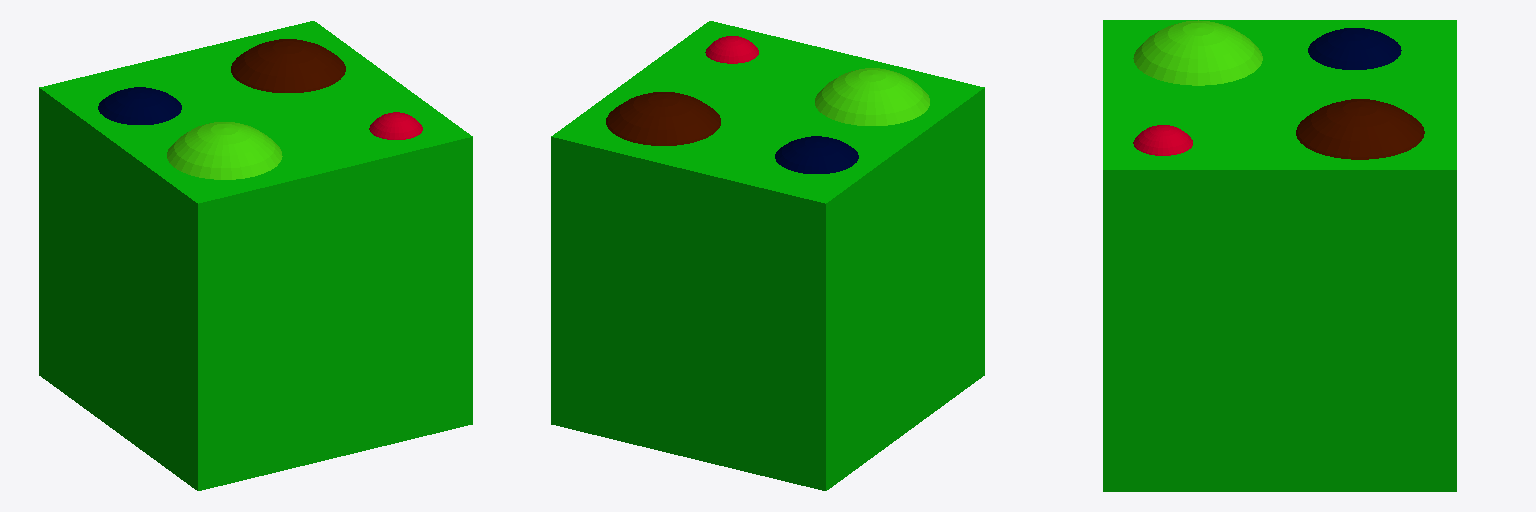
URDF robot description (robot):

<robot name="robot">
  <link name="base_footprint"></link>
  <joint name="base_joint" type="fixed">
    <parent link="base_footprint" />
    <child link="base_link" />
    <origin xyz="0 0 1" rpy="0 0 0" />
  </joint>
  <link name="base_link">
    <visual>
      <origin xyz="0 0 0" rpy="0 0 0" />
      <geometry>
        <box size="2 2 2" />
      </geometry>
      <material name="base_link-material">
        <color rgba="0.035601314869097636 0.7681511472425809 0.05286064701616471 1" />
      </material>
    </visual>
    <collision>
      <origin xyz="0 0 0" rpy="0 0 0" />
      <geometry>
        <box size="1 1 1" />
      </geometry>
    </collision>
    <inertial>
      <origin xyz="0 0 0" rpy="0 0 0" />
      <mass value="1" />
      <inertia ixx="0.16666666666666666" ixy="0" ixz="0" iyy="0.16666666666666666" iyz="0" izz="0.16666666666666666" />
    </inertial>
  </link>
  <joint name="base_link_to_sphere0" type="fixed">
    <parent link="base_link" />
    <child link="sphere0" />
    <origin xyz="0.4971067142143324 0.45307616003627027 0.6590122002197509" rpy="0 0 0" />
  </joint>
  <link name="sphere0">
    <visual>
      <origin xyz="0 0 0" rpy="0 0 0" />
      <geometry>
        <sphere radius="0.5" />
      </geometry>
      <material name="sphere0-material">
        <color rgba="0.3049873140591091 0.09758734713304495 0.0033465357620980074 1" />
      </material>
    </visual>
    <collision>
      <origin xyz="0 0 0" rpy="0 0 0" />
      <geometry>
        <sphere radius="0.5" />
      </geometry>
    </collision>
    <inertial>
      <origin xyz="0 0 0" rpy="0 0 0" />
      <mass value="1" />
      <inertia ixx="0.4" ixy="0" ixz="0" iyy="0.4" iyz="0" izz="0.4" />
    </inertial>
  </link>
  <joint name="base_link_to_sphere1" type="fixed">
    <parent link="base_link" />
    <child link="sphere1" />
    <origin xyz="-0.49427324944898676 -0.4612209561514433 0.7398365986043107" rpy="0 0 0" />
  </joint>
  <link name="sphere1">
    <visual>
      <origin xyz="0 0 0" rpy="0 0 0" />
      <geometry>
        <sphere radius="0.45" />
      </geometry>
      <material name="sphere1-material">
        <color rgba="0.3049873140591091 0.85499260812105 0.07618538147321911 1" />
      </material>
    </visual>
    <collision>
      <origin xyz="0 0 0" rpy="0 0 0" />
      <geometry>
        <sphere radius="0.45" />
      </geometry>
    </collision>
    <inertial>
      <origin xyz="0 0 0" rpy="0 0 0" />
      <mass value="1" />
      <inertia ixx="0.4" ixy="0" ixz="0" iyy="0.4" iyz="0" izz="0.4" />
    </inertial>
  </link>
  <joint name="base_link_to_sphere2" type="fixed">
    <parent link="base_link" />
    <child link="sphere2" />
    <origin xyz="0.6397328377515283 -0.6584441229497581 0.8953422826738506" rpy="0 0 0" />
  </joint>
  <link name="sphere2">
    <visual>
      <origin xyz="0 0 0" rpy="0 0 0" />
      <geometry>
        <sphere radius="0.2" />
      </geometry>
      <material name="sphere2-material">
        <color rgba="0.8148465722120952 0.0018211619011764706 0.181164244239483 1" />
      </material>
    </visual>
    <collision>
      <origin xyz="0 0 0" rpy="0 0 0" />
      <geometry>
        <sphere radius="0.2" />
      </geometry>
    </collision>
    <inertial>
      <origin xyz="0 0 0" rpy="0 0 0" />
      <mass value="1" />
      <inertia ixx="0.4" ixy="0" ixz="0" iyy="0.4" iyz="0" izz="0.4" />
    </inertial>
  </link>
  <joint name="base_link_to_sphere3" type="fixed">
    <parent link="base_link" />
    <child link="sphere3" />
    <origin xyz="-0.5991591010288562 0.42189710472745645 0.7020004870615688" rpy="0 0 0" />
  </joint>
  <link name="sphere3">
    <visual>
      <origin xyz="0 0 0" rpy="0 0 0" />
      <geometry>
        <sphere radius="0.4" />
      </geometry>
      <material name="sphere3-material">
        <color rgba="0.0030352698352941175 0.04970656597728775 0.23839757380151394 1" />
      </material>
    </visual>
    <collision>
      <origin xyz="0 0 0" rpy="0 0 0" />
      <geometry>
        <sphere radius="0.4" />
      </geometry>
    </collision>
    <inertial>
      <origin xyz="0 0 0" rpy="0 0 0" />
      <mass value="1" />
      <inertia ixx="0.4" ixy="0" ixz="0" iyy="0.4" iyz="0" izz="0.4" />
    </inertial>
  </link>
</robot>

--- Render facts (derived) ---
Views: 3 orthographic renders of the robot side by side, from view 1: azimuth 30°, elevation 25°; view 2: azimuth 150°, elevation 25°; view 3: azimuth 270°, elevation 25°.
Model robot with 6 links and 5 joints (5 fixed), rooted at base_footprint, posed every joint at zero.
Visible links, largest first — view 1: base_link, sphere1, sphere0, sphere3, sphere2; view 2: base_link, sphere1, sphere0, sphere3, sphere2; view 3: base_link, sphere1, sphere0, sphere3, sphere2.
Link boxes in pixels (x1,y1,x2,y2): base_link: (39, 21, 472, 490); sphere1: (167, 122, 282, 179); sphere0: (231, 39, 345, 92); sphere3: (98, 87, 181, 124); sphere2: (369, 112, 422, 139); base_link: (551, 21, 984, 490); sphere1: (815, 68, 929, 125); sphere0: (606, 92, 720, 145); sphere3: (775, 136, 858, 173); sphere2: (705, 36, 758, 63); base_link: (1103, 20, 1456, 491); sphere1: (1133, 20, 1262, 85); sphere0: (1296, 99, 1424, 159); sphere3: (1308, 28, 1401, 69); sphere2: (1133, 125, 1192, 155).
Size in the robot's own frame: 2 by 2 by 2.19 metres.
Geometry: primitives only (box / cylinder / sphere), no mesh files.